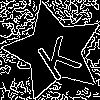K: (29, 26, 83, 83)
